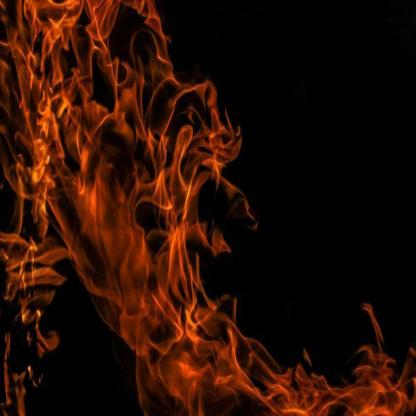fire: (2, 3, 253, 409), (254, 300, 414, 412)
